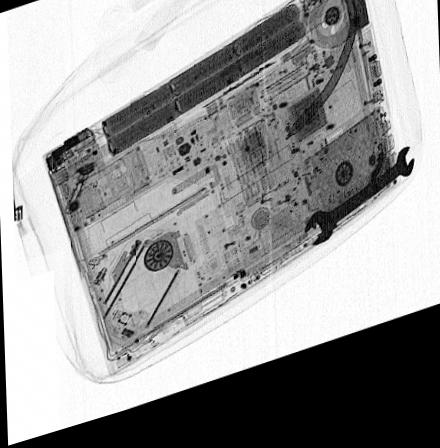Wrench: (300, 168, 414, 266)
